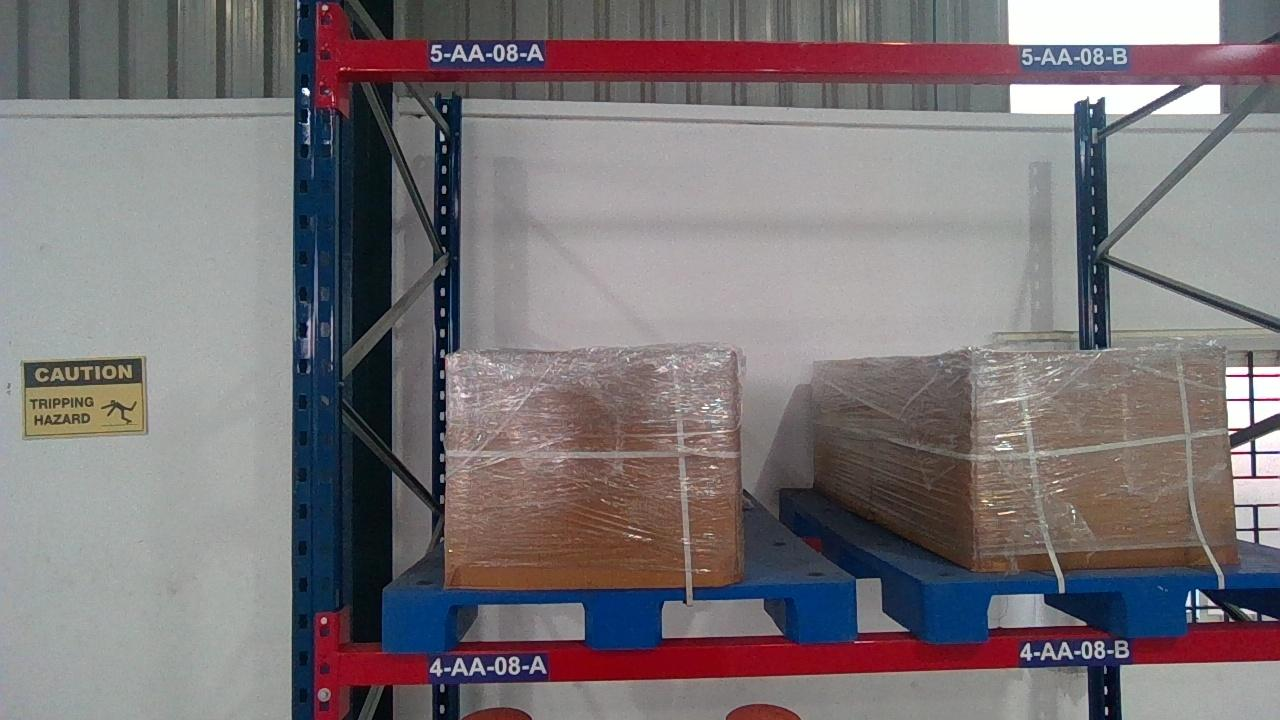h_rack: (339, 39, 1276, 74), (337, 652, 1280, 664)
small_pallet: (380, 583, 864, 649), (928, 575, 1279, 635)
